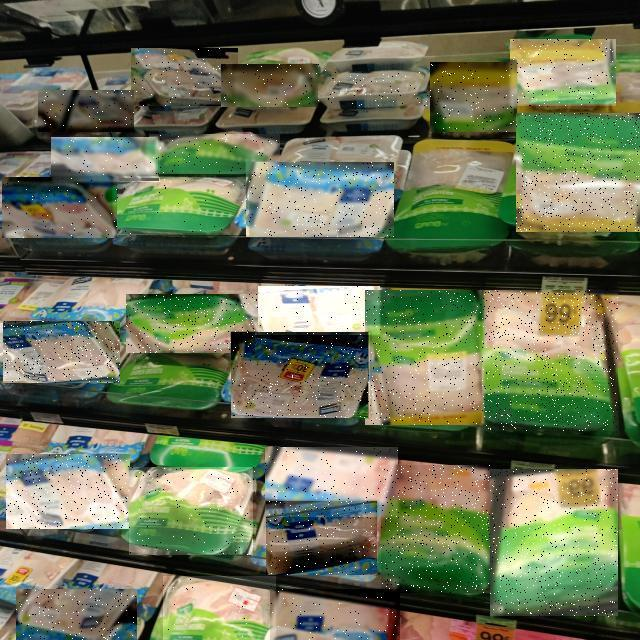Meat: (482, 290, 618, 431), (490, 470, 618, 618), (365, 290, 484, 425), (516, 113, 640, 232), (381, 465, 492, 593), (232, 332, 372, 418), (246, 162, 394, 237), (130, 467, 256, 555), (265, 447, 398, 517), (7, 454, 131, 529), (266, 501, 377, 575), (113, 177, 249, 235), (126, 294, 258, 353), (3, 321, 120, 383), (163, 576, 276, 640), (510, 40, 616, 108), (2, 177, 117, 238), (270, 589, 400, 640), (131, 48, 238, 106), (16, 589, 137, 640), (430, 63, 517, 133), (259, 286, 381, 335), (149, 135, 280, 175), (52, 138, 160, 182), (222, 64, 320, 107), (39, 91, 135, 133), (324, 68, 428, 106)
